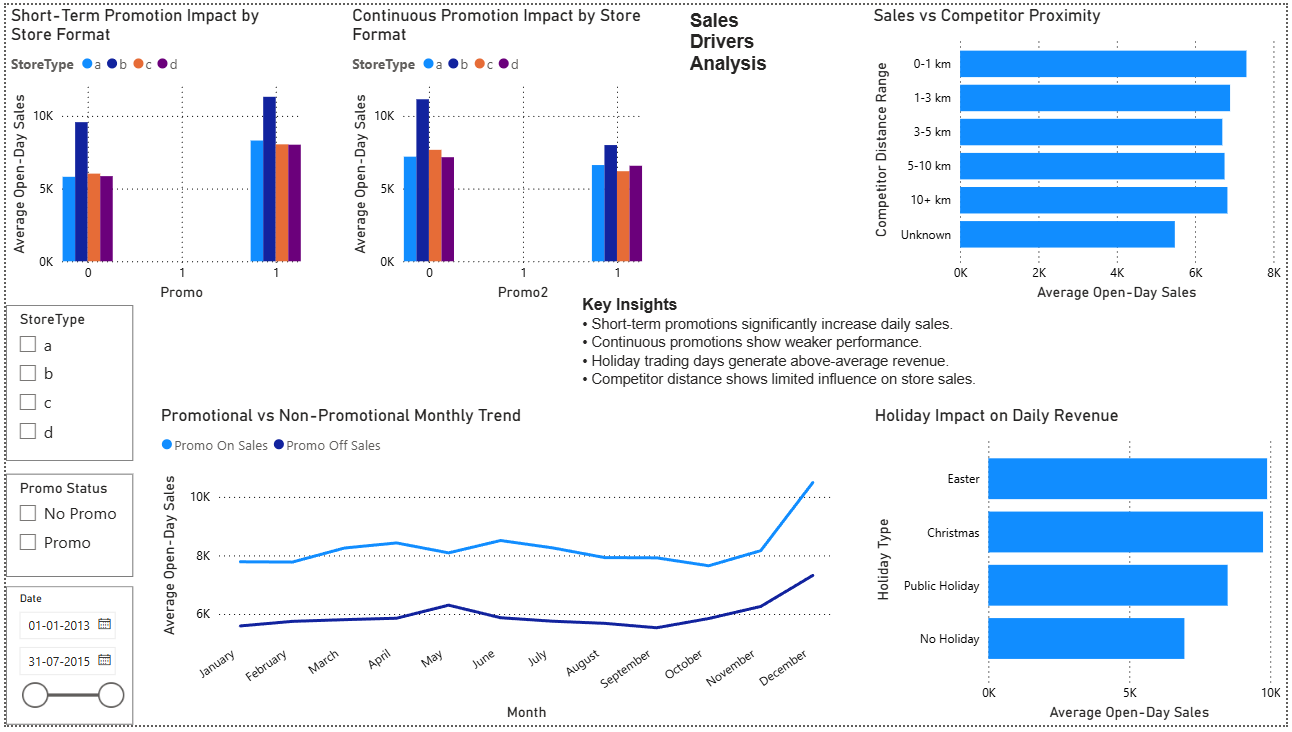

Layout of this report page (visuals, bound fields, positions):
{"tool":"powerbi","page":{"name":"Page 3","canvas":[1280,720],"ordinal":2},"visuals":[{"type":"slicer","fields":{"Values":["Calender.Date"]},"box":[0,581.4,127.1,138.6],"z":0},{"type":"slicer","fields":{"Values":["train.Promo Status"]},"box":[0,468.6,127.1,102.9],"z":1000},{"type":"slicer","fields":{"Values":["store.StoreType"]},"box":[0,300,127.1,155.7],"z":2000},{"type":"clusteredColumnChart","title":"Short-Term Promotion Impact by Store Format","fields":{"Category":["train.Promo"],"Y":["train.Average Open-Day Sales"],"Series":["store.StoreType"]},"box":[0,0,300,300],"z":3000},{"type":"clusteredColumnChart","title":"Continuous Promotion Impact by Store Format","fields":{"Category":["store.Promo2"],"Y":["train.Average Open-Day Sales"],"Series":["store.StoreType"]},"box":[341.4,0,300,300],"z":4000},{"type":"lineChart","title":"Promotional vs Non-Promotional Monthly Trend","fields":{"Category":["Calender.Month"],"Y":["train.Promo On Sales","train.Promo Off Sales"]},"box":[150,400,682.9,320],"z":5000},{"type":"barChart","title":"Holiday Impact on Daily Revenue","fields":{"Category":["train.HolidayLabel"],"Y":["train.Average Open-Day Sales"]},"box":[864.3,400,415.7,320],"z":6000},{"type":"barChart","title":"Sales vs Competitor Proximity","fields":{"Category":["store.CompetitionBin"],"Y":["train.Average Open-Day Sales"]},"box":[862.9,0,417.1,300],"z":7000},{"type":"textbox","box":[571.4,285.7,417.1,104.3],"z":8000},{"type":"textbox","box":[678.8,0,153.8,85],"z":9000}]}

Visuals, with their boxes in screenshot pixels (x1, y1, x2, y2), scaled from the page's 1280x720 canvas onto the 1292x732 screenshot:
slicer - Calender.Date: 0 591 128 731
slicer - train.Promo Status: 0 476 128 581
slicer - store.StoreType: 0 305 128 463
"Short-Term Promotion Impact by Store Format" clusteredColumnChart: 0 0 303 305
"Continuous Promotion Impact by Store Format" clusteredColumnChart: 345 0 647 305
"Promotional vs Non-Promotional Monthly Trend" lineChart: 151 407 841 731
"Holiday Impact on Daily Revenue" barChart: 872 407 1291 731
"Sales vs Competitor Proximity" barChart: 871 0 1291 305
textbox: 577 290 998 396
textbox: 685 0 840 86
